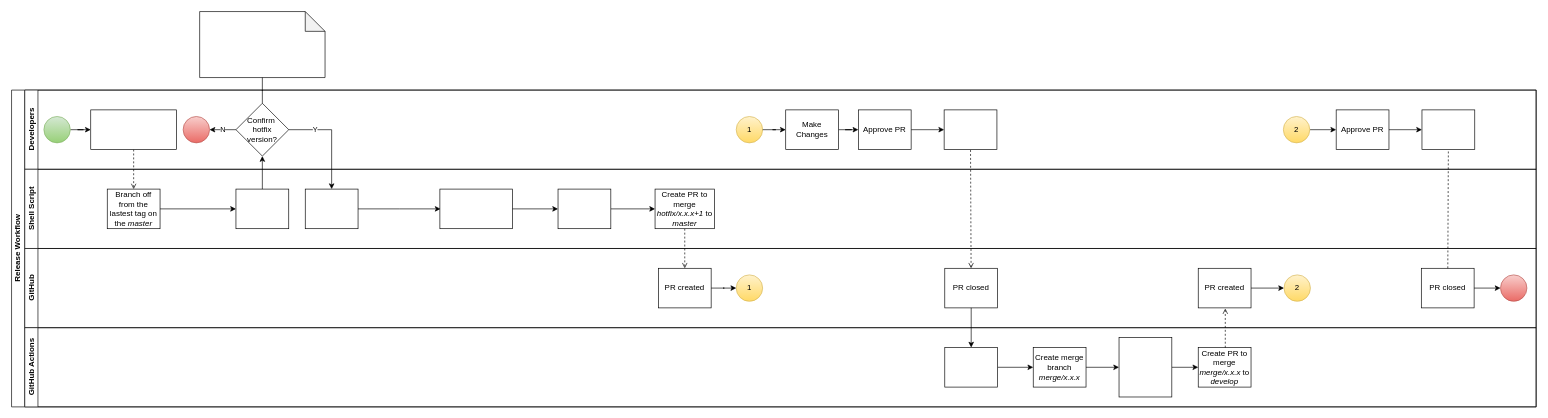
The diagram is 1548 pixels wide and 418 high, and some of its shapes have lost their labels. Each missing label, with the centre of its shape:
"Build, publish, and tag release" belongs at (x=971, y=367).
"Create hotfix branch hotfix/x.x.x+1" belongs at (x=331, y=208).
"Determine hotfix version x.x.x+1" belongs at (x=262, y=208).
"Kick-off Hotfix make hotfix" belongs at (x=133, y=129).
"Last release version was 1.0.0, proceed to create hotfix 1.0.1? [Y/n]" belongs at (x=262, y=44).
"Merge hotfix/x.x.x+1 into master" belongs at (x=970, y=129).
"Merge merge/x.x.x into develop" belongs at (x=1448, y=129).
"Push hotfix branch to origin" belongs at (x=584, y=208).
"Skip version update - maintain current development version" belongs at (x=1145, y=367).
"Update pom.xml project version" belongs at (x=475, y=208).
